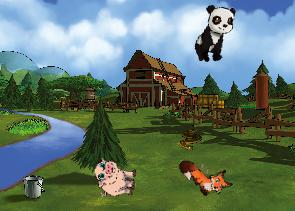fox: (175, 144, 236, 205)
panda: (191, 1, 238, 67)
pig: (92, 157, 138, 199)
